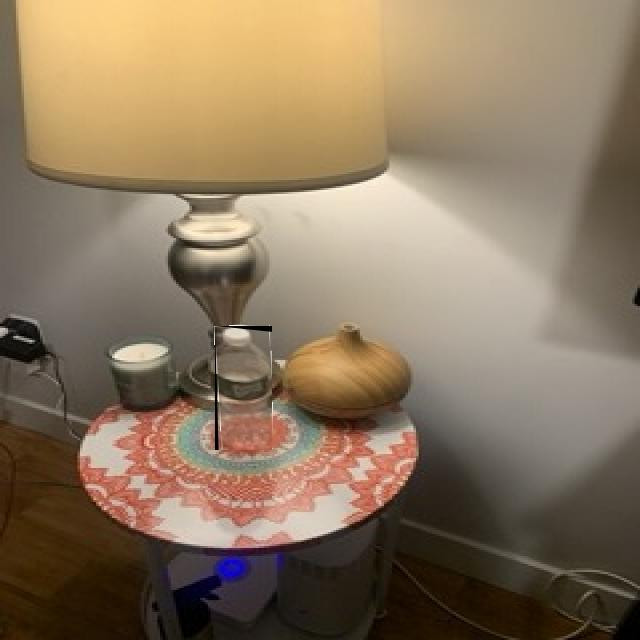water_bottle: (215, 326, 272, 450)
